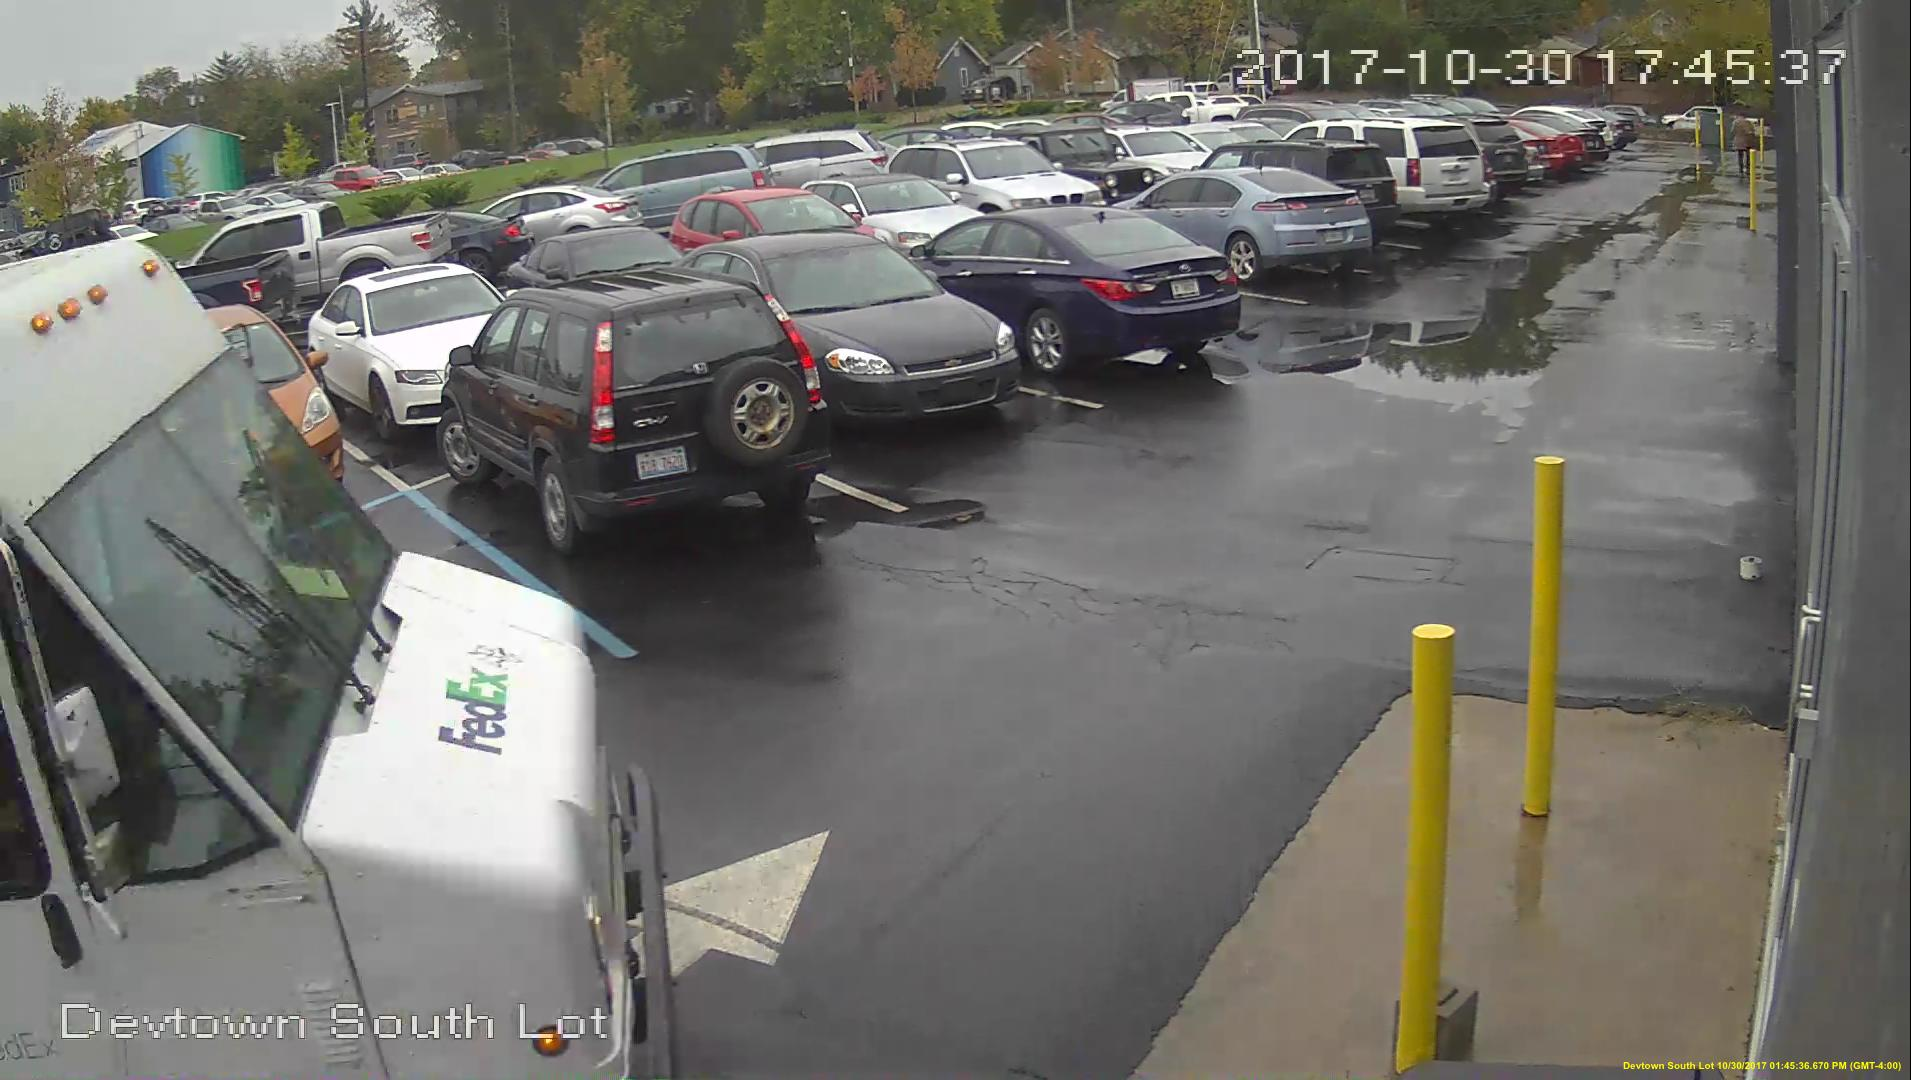fedex_truck: (1, 251, 584, 1080)
